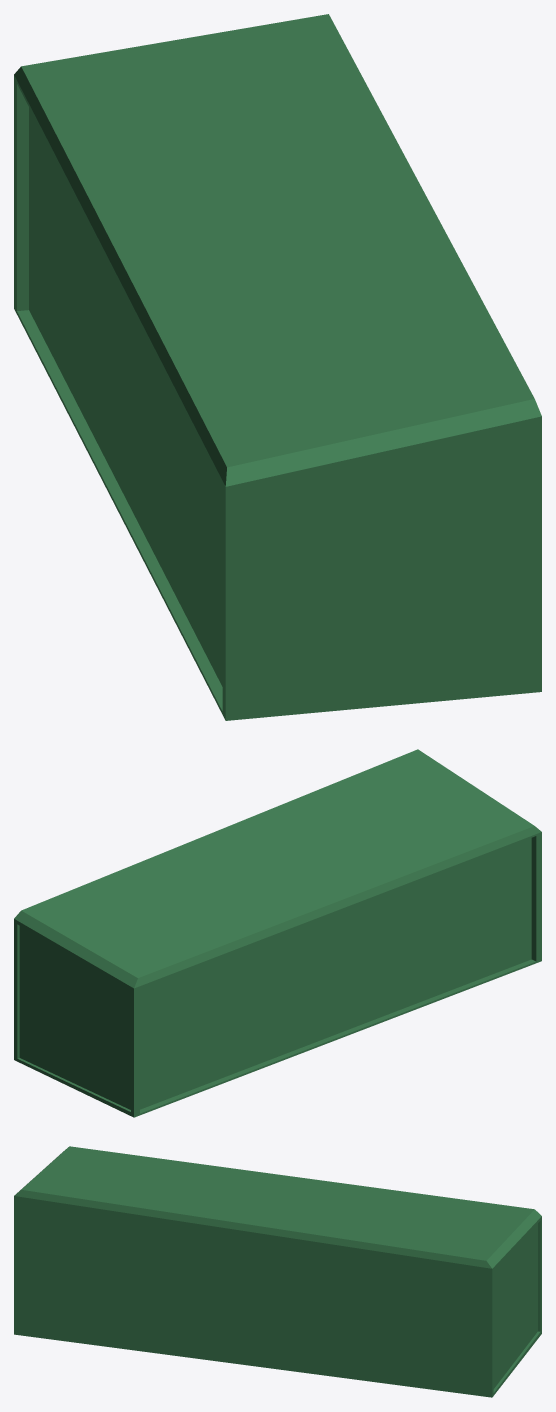
Rendered from WE01_Kinship_CrateGreen.fbx.
The picture shows the model from 3 angles, top to bottom: view 1: azimuth 30°, elevation 25°; view 2: azimuth 150°, elevation 25°; view 3: azimuth 270°, elevation 25°; orthographic projection. The views are drawn at different scales.
Visible parts, largest first — view 1: Garage; view 2: Garage; view 3: Garage.
Part boxes in pixels (x1=…): Garage: x1=14, y1=14, x2=541, y2=720; Garage: x1=14, y1=749, x2=541, y2=1117; Garage: x1=14, y1=1146, x2=541, y2=1397.
Size of the model in its own units: 3.8 by 1.97 by 6.51.
